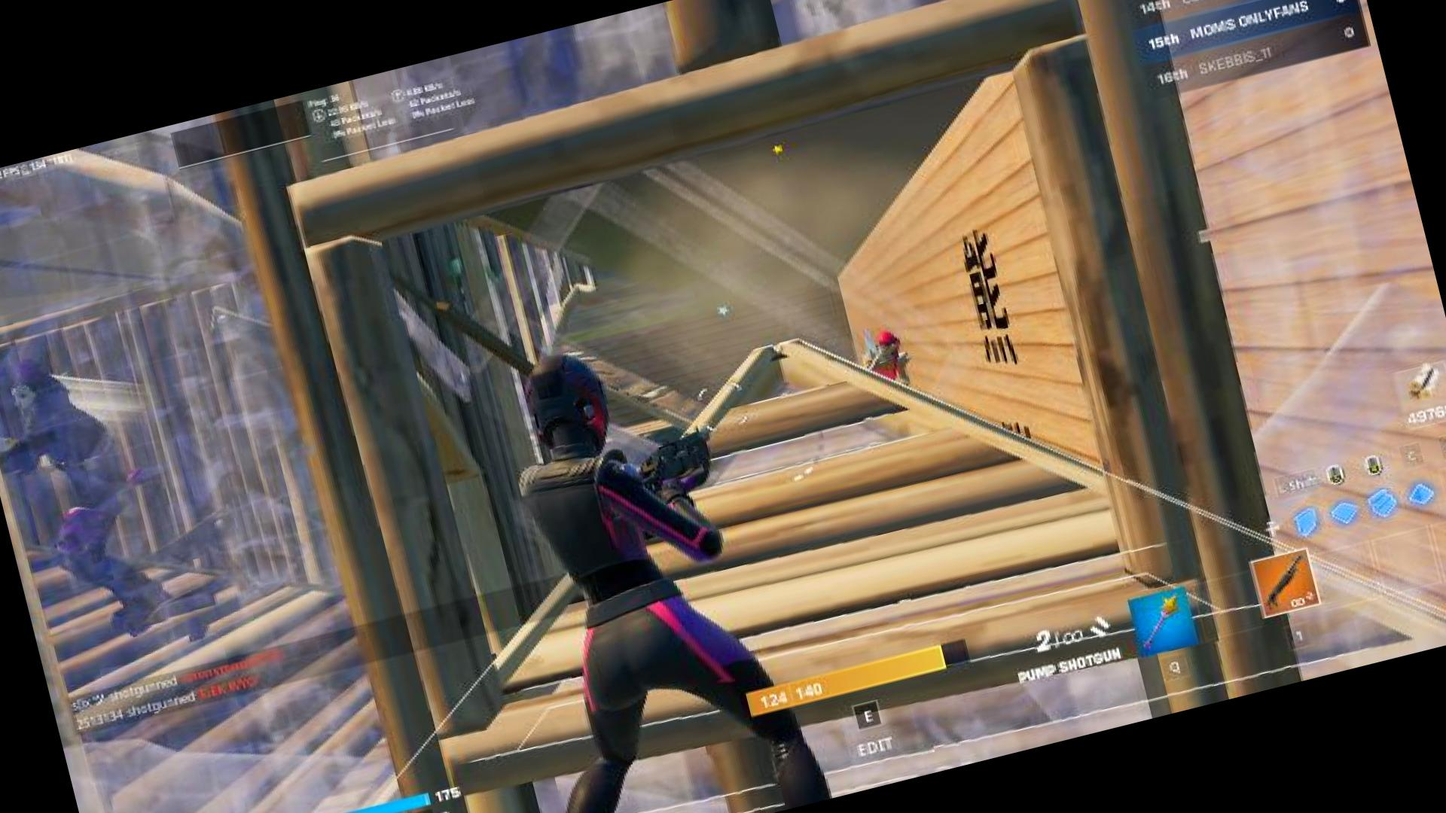player: (847, 313, 948, 444)
